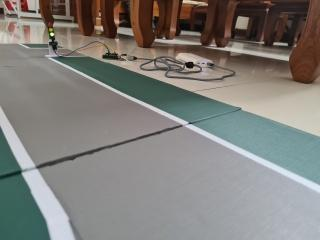green: (40, 13, 62, 41)
